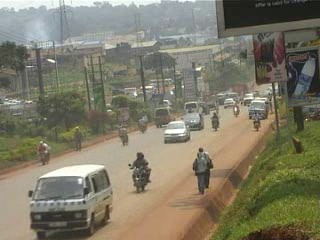Car: (161, 119, 192, 144), (179, 110, 204, 132), (221, 97, 236, 110)
Motorcycle: (127, 161, 152, 194), (208, 114, 220, 132), (116, 130, 128, 147), (38, 149, 49, 166), (135, 120, 147, 135), (252, 118, 261, 134), (232, 104, 239, 119)
